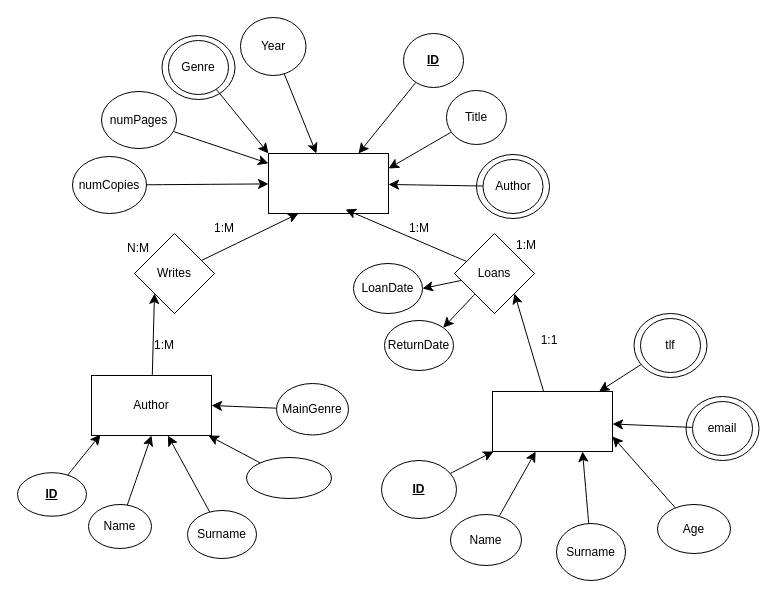
Image size: 777x598. Some labels were removed from this diagram. The centre of each missing label's shape, as x and y in pixels:
BirthCountry: point 289,477
Book: point 328,183
Person: point 552,421
